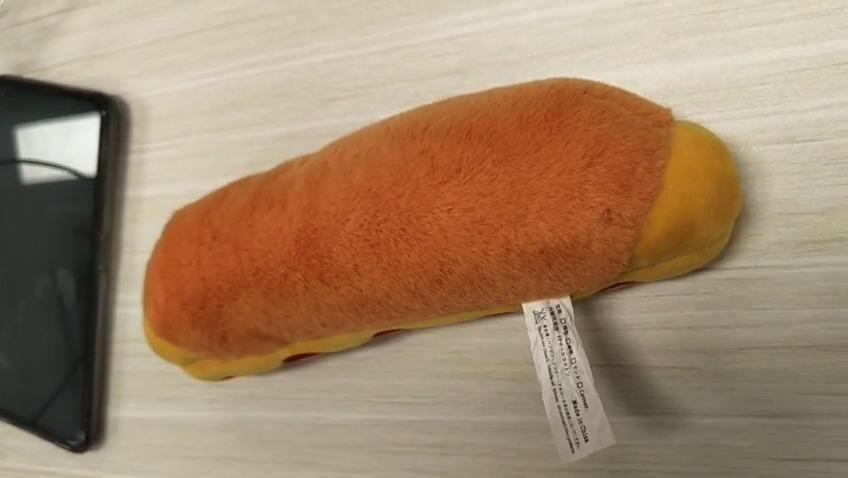hotdog: (144, 75, 744, 378)
